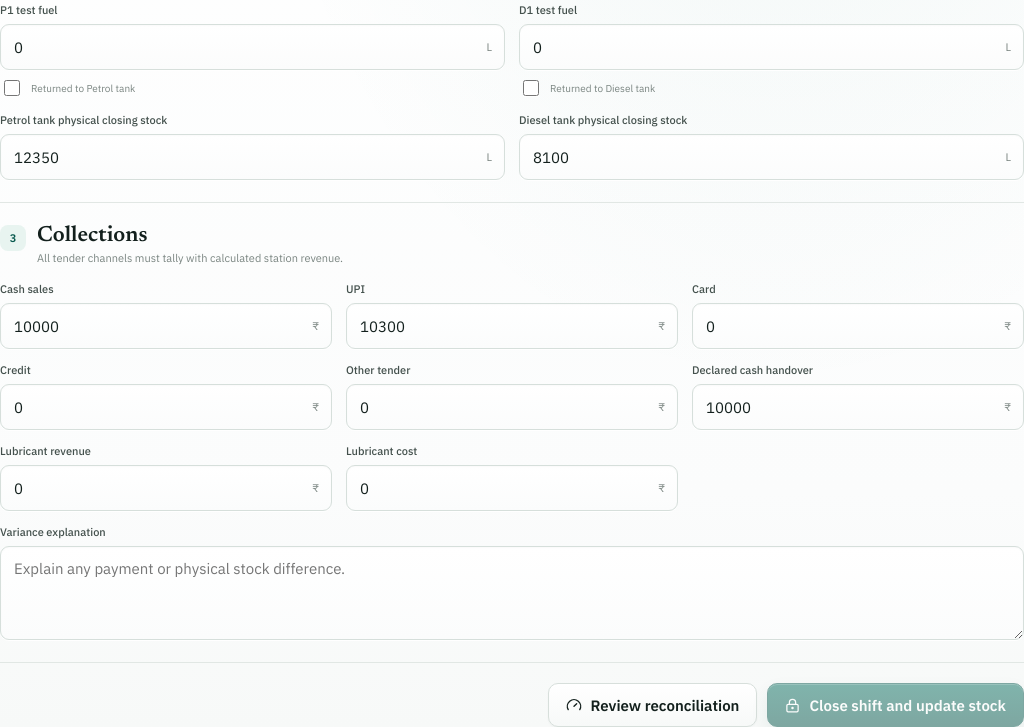
Test case: ShiftCloseForm › shows the server reconciliation before allowing closure
The width and height of the screenshot is (1024, 727).
(page scrolled)
Step 1. Click the button "Review reconciliation" → click(652, 705), box left=548, top=683, right=757, bottom=726
(page scrolled)
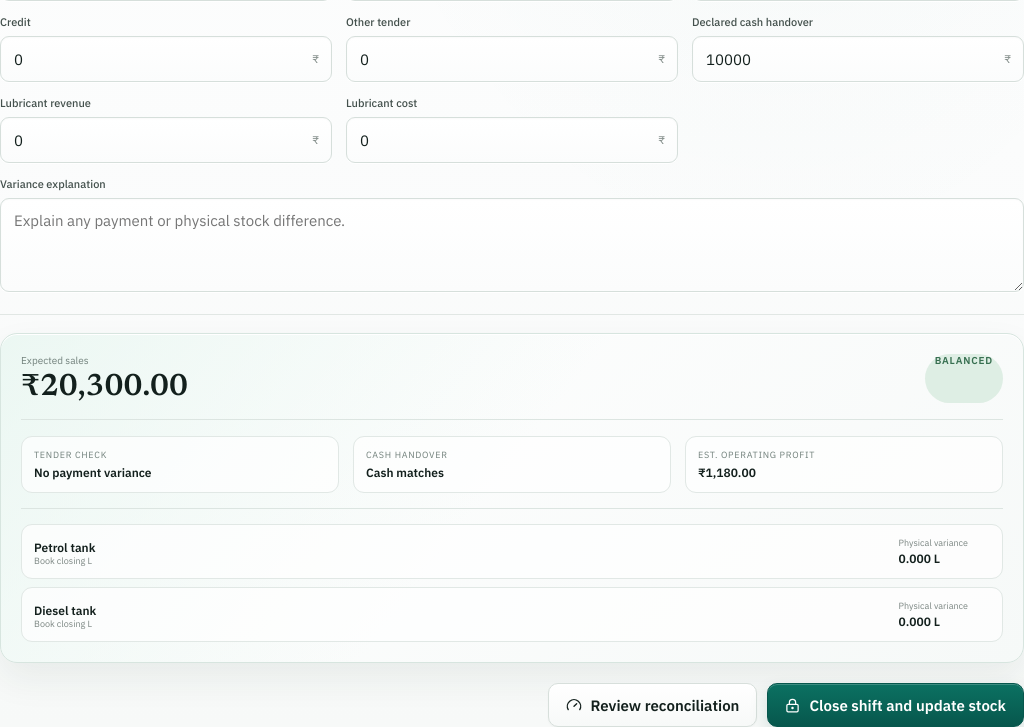
Result: the text "₹20,300.00" is shown at left=21, top=372, right=188, bottom=403
Result: the text "No payment variance" is shown at left=34, top=465, right=152, bottom=480
Result: the button "Close shift and update stock" is enabled at left=767, top=683, right=1023, bottom=726
